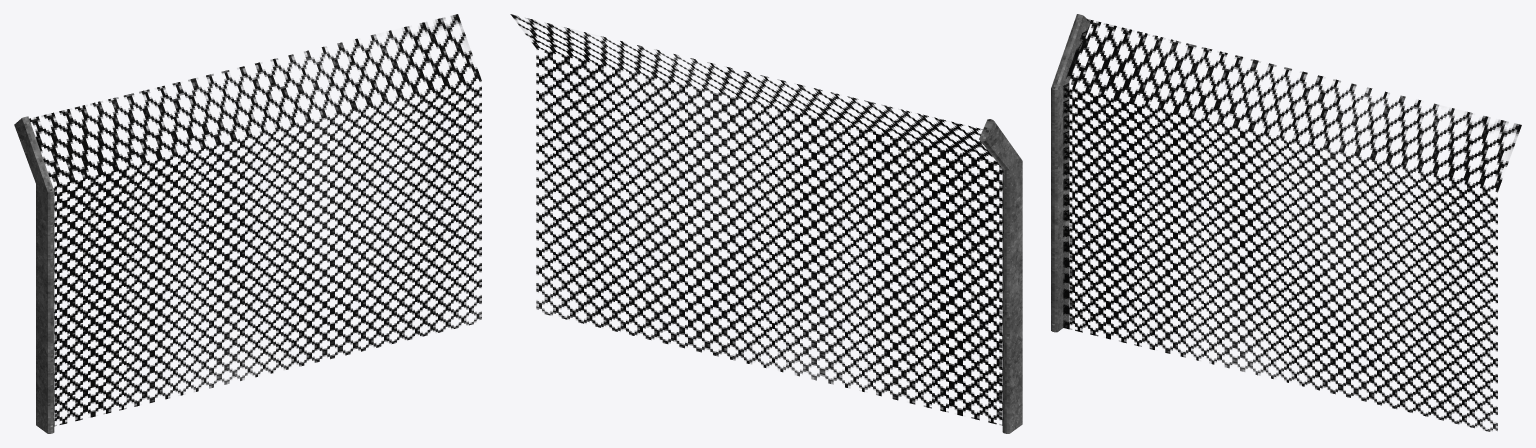
Rendered from Fence.glb.
The picture shows the model from 3 angles, left to right: view 1: azimuth 30°, elevation 25°; view 2: azimuth 150°, elevation 25°; view 3: azimuth 330°, elevation 25°; orthographic projection. The views are drawn at different scales.
Visible parts, largest first — view 1: Plane; view 2: Plane; view 3: Plane.
Boxes of the visible parts, x1,y1,x2,y2 form: Plane: (14,14,481,433); Plane: (510,14,1022,433); Plane: (1051,14,1521,431).
Size of the model in its own units: 3.81 by 2.46 by 0.5213.
Materials: 1 (1 with a texture image).
